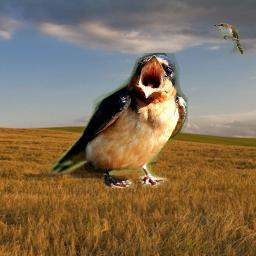Cuckoo: (214, 23, 243, 54)
Swallow: (49, 53, 188, 188)
